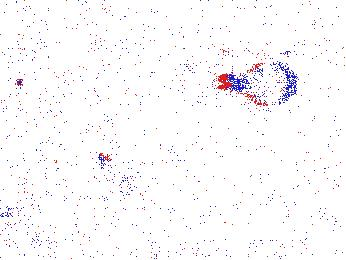flame jellyfish: (96, 151, 155, 219), (218, 59, 300, 107), (1, 163, 33, 216)
